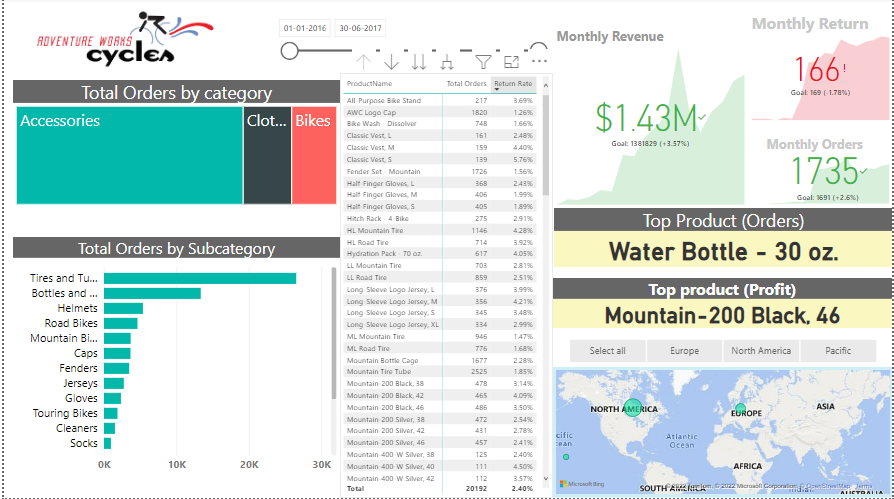

The dashboard page shown, as its layout file describes it:
{"tool":"powerbi","page":{"name":"Page 1","canvas":[1280,720],"ordinal":0},"visuals":[{"type":"treemap","title":"Total Orders by category","fields":{"Values":["Sum(AdventureWorks_Sales.OrderQuantity)"],"Group":["AdventureWorks_Product_Categories.CategoryName"]},"box":[13,118.1,470.9,184.3],"z":0},{"type":"barChart","title":"Total Orders by Subcategory","fields":{"Category":["AdventureWorks_Product_Subcategories.SubcategoryName"],"Y":["Sum(AdventureWorks_Sales.OrderQuantity)"]},"box":[13,344.2,470.9,348.5],"z":1000},{"type":"kpi","title":"Monthly Revenue","fields":{"TrendLine":["AdventureWorks_Calendar.Start of Month"],"Goal":["AdventureWorks_Sales.Prev Month Revenue"],"Indicator":["Sum(AdventureWorks_Sales.Total_Revenue)"]},"box":[790.6,41.8,280.8,260.6],"z":2000},{"type":"kpi","title":"Monthly Orders","fields":{"Indicator":["AdventureWorks_Sales.Total Orders"],"TrendLine":["AdventureWorks_Calendar.Start of Month"],"Goal":["AdventureWorks_Sales.Prev Month Order"]},"box":[1093.1,197.9,186.9,103.7],"z":3000},{"type":"kpi","title":"Monthly Return","fields":{"Indicator":["AdventureWorks_Returns.Total Returns"],"TrendLine":["AdventureWorks_Calendar.Start of Month"],"Goal":["AdventureWorks_Returns.Prev Month Returns"]},"box":[1071.4,20.2,208.8,161.3],"z":4000},{"type":"map","fields":{"Category":["AdventureWorks_Territories.Continent"],"Size":["Sum(AdventureWorks_Sales.OrderQuantity)"]},"box":[790,530.8,490,188.5],"z":5000},{"type":"card","title":"Top Product (Orders)","fields":{"Values":["Min(AdventureWorks_Products.ProductName)"]},"box":[792,302.4,488.2,85],"z":6000},{"type":"card","title":"Top product (Profit)","fields":{"Values":["Min(AdventureWorks_Products.ProductName)"]},"box":[789.1,403.2,491,72],"z":7000},{"type":"slicer","fields":{"Values":["AdventureWorks_Territories.Continent"]},"box":[789.4,484.7,490.6,45.5],"z":8000},{"type":"slicer","fields":{"Values":["AdventureWorks_Calendar.Date"]},"box":[383.2,20.4,408.3,77],"z":9000},{"type":"image","box":[0,9.9,352.5,98.8],"z":10000},{"type":"pivotTable","fields":{"Rows":["AdventureWorks_Products.ProductName","AdventureWorks_Product_Categories.ProductCategoryKey"],"Values":["AdventureWorks_Sales.Total Orders","AdventureWorks_Returns.Return Rate"]},"box":[483.7,108.4,306.3,610.9],"z":11000}]}

Visuals, with their boxes in screenshot pixels (x1, y1, x2, y2), scaled from the page's 1280x720 canvas onto the 894x499 screenshot:
"Total Orders by category" treemap: rect(9, 82, 338, 210)
"Total Orders by Subcategory" barChart: rect(9, 239, 338, 480)
"Monthly Revenue" kpi: rect(552, 29, 748, 210)
"Monthly Orders" kpi: rect(763, 137, 893, 209)
"Monthly Return" kpi: rect(748, 14, 893, 126)
map - AdventureWorks_Territories.Continent x Sum(AdventureWorks_Sales.OrderQuantity): rect(552, 368, 893, 498)
"Top Product (Orders)" card: rect(553, 210, 893, 268)
"Top product (Profit)" card: rect(551, 279, 893, 329)
slicer - AdventureWorks_Territories.Continent: rect(551, 336, 893, 367)
slicer - AdventureWorks_Calendar.Date: rect(268, 14, 553, 68)
image: rect(0, 7, 246, 75)
pivotTable - AdventureWorks_Products.ProductName x AdventureWorks_Product_Categories.ProductCategoryKey: rect(338, 75, 552, 498)
